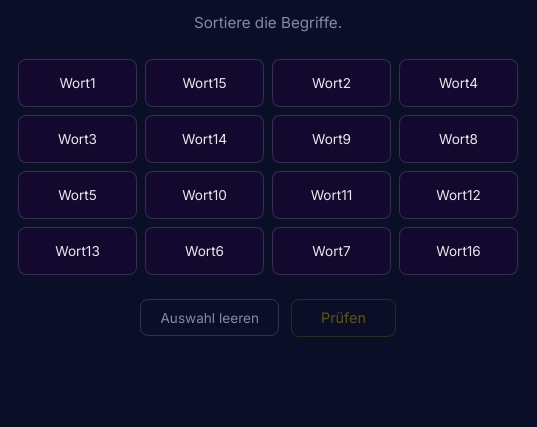
Test case: Connections › finds correct group and shows it
Select Gruppe A
Click the button "Wort1". click: (78, 83)
box: [18,59,137,107]
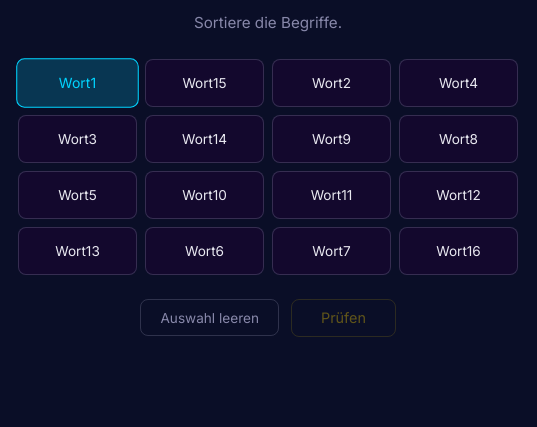
Click the button "Wort2". click: (332, 83)
box: [272,59,391,107]
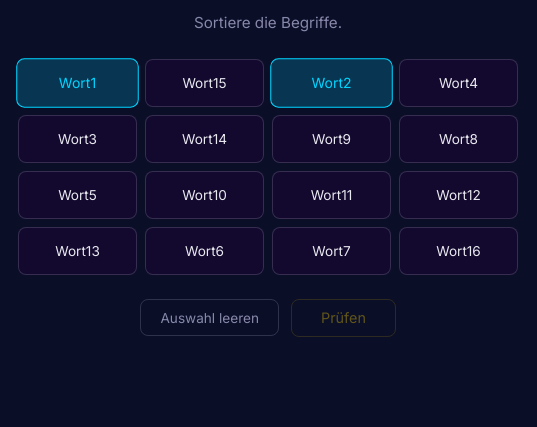
Click the button "Wort3". click: (78, 139)
box: [18,115,137,163]
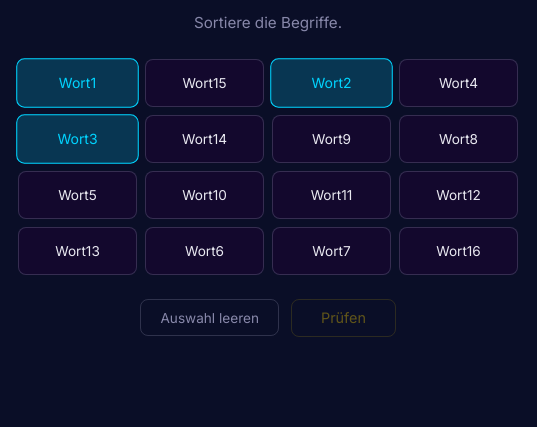
Click the button "Wort4". click: (458, 83)
box: [399,59,518,107]
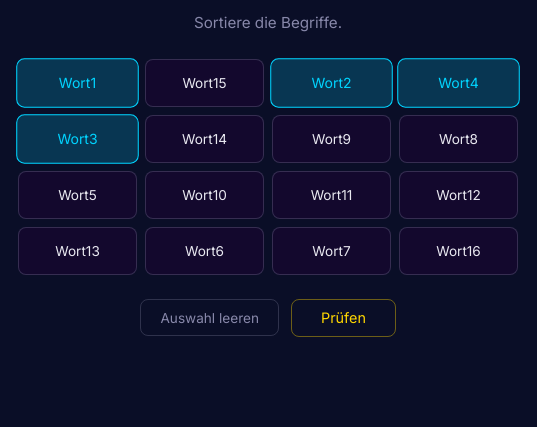
Click the button "Prüfen". click: (343, 318)
box: [291,299,396,337]
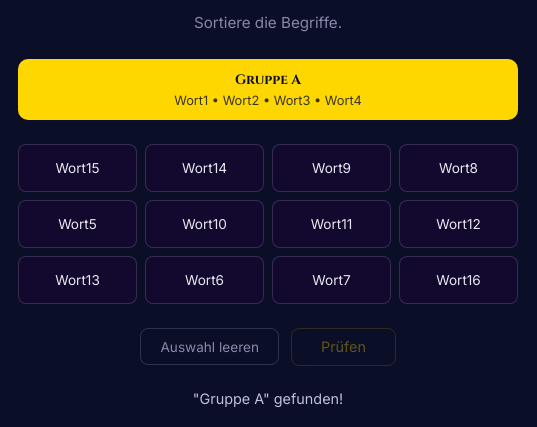
Now the text "\"Gruppe A\" gefunden!" is shown, box [193,390,343,410]
